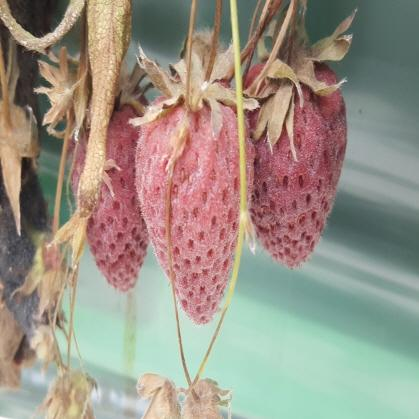Powdery Mildew Fruit: (134, 68, 255, 327), (236, 55, 347, 270), (67, 102, 151, 290)
